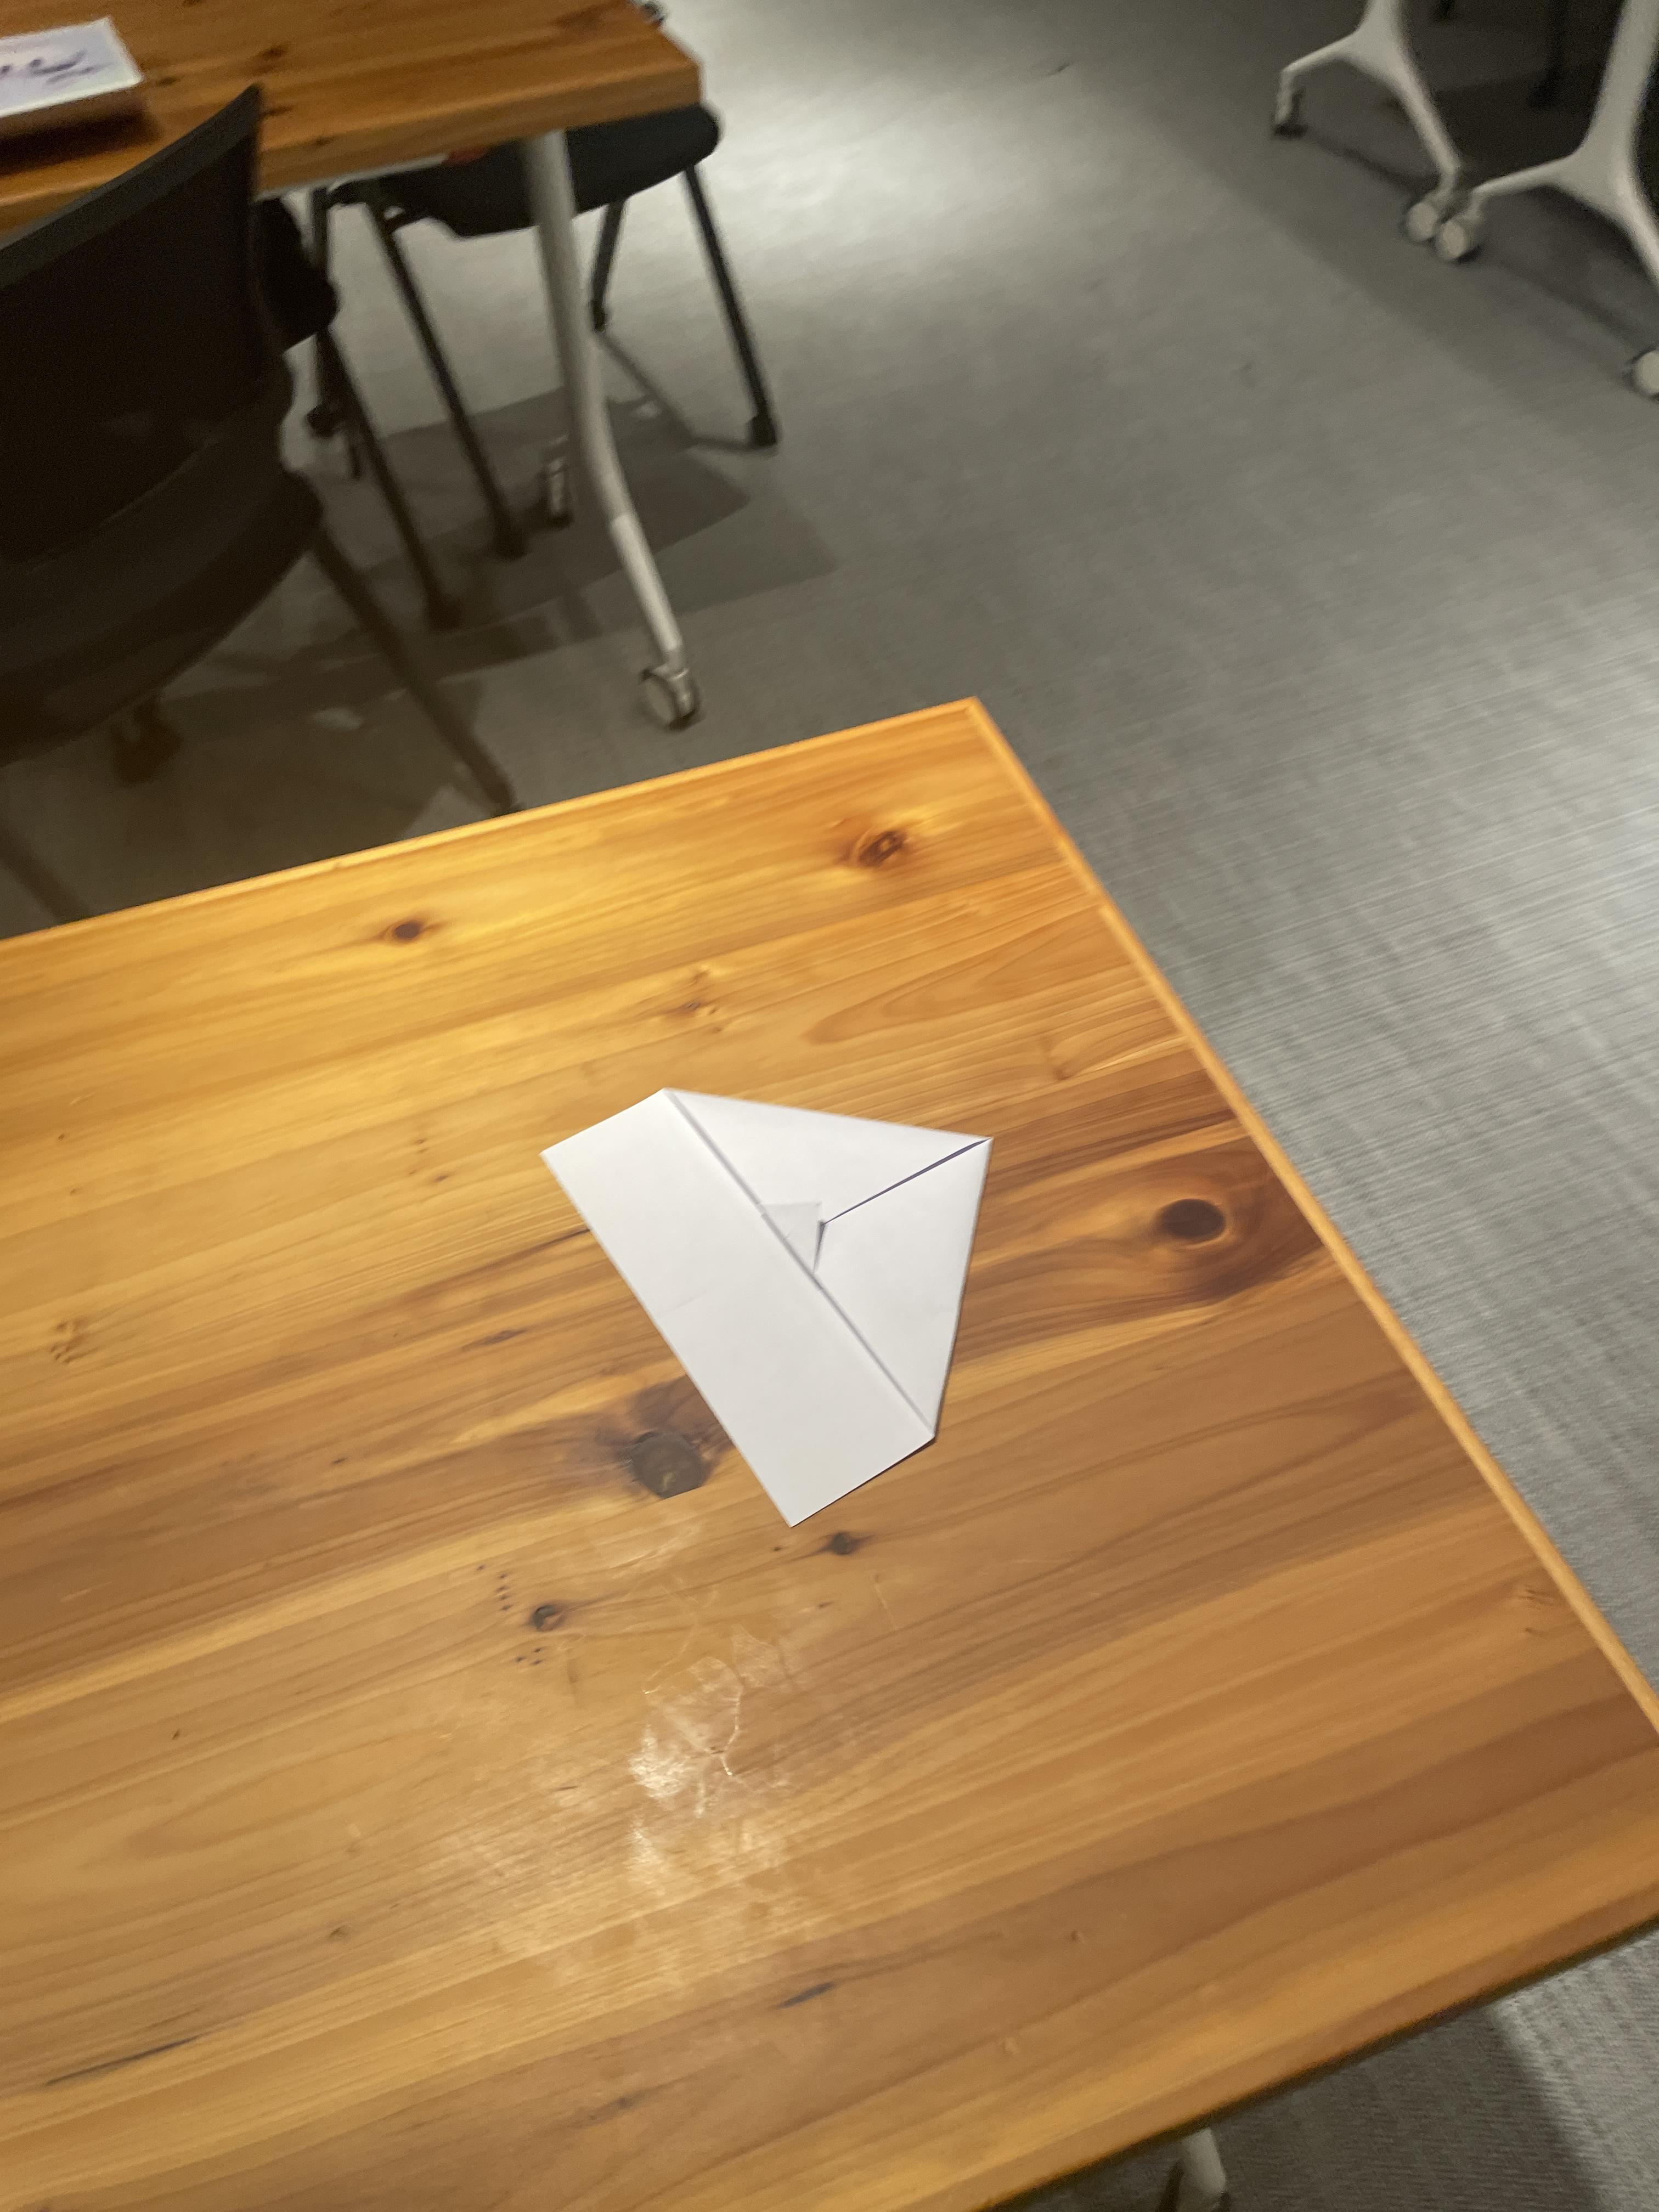shape_2: (477, 967, 1105, 1599)
